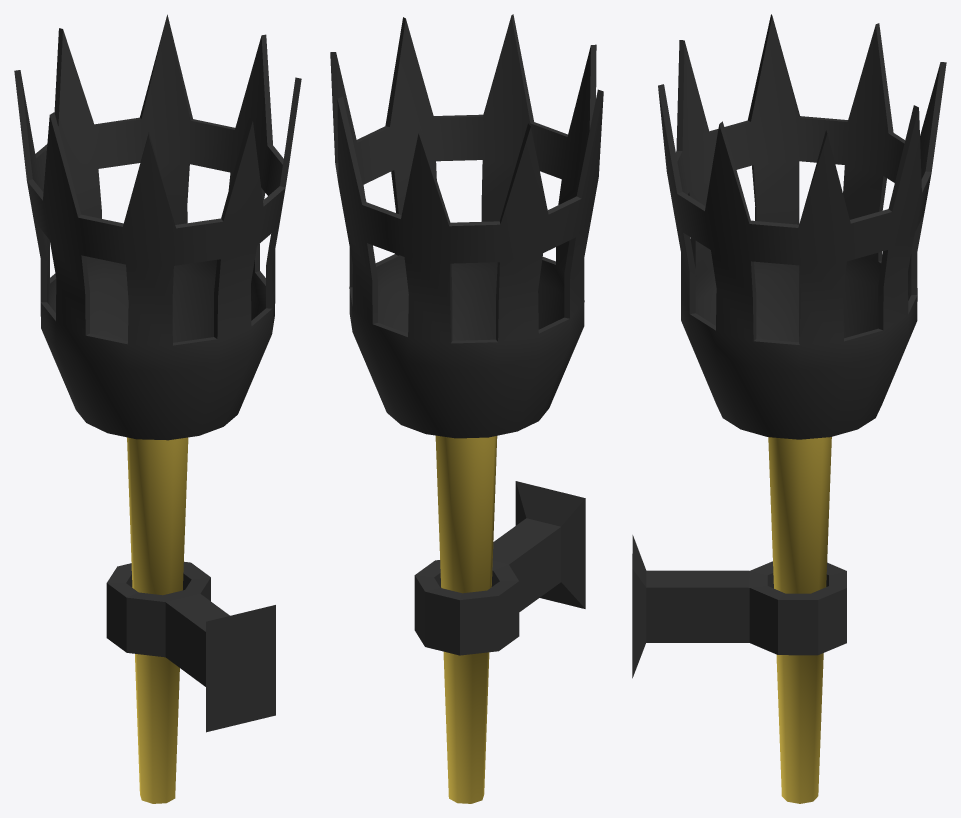
Rendered from Torch Wall 1.fbx.
3 renders of one model, left to right at view 1: azimuth 30°, elevation 25°; view 2: azimuth 150°, elevation 25°; view 3: azimuth 270°, elevation 25°, orthographic.
Visible parts, largest first — view 1: Cylinder.002; view 2: Cylinder.002; view 3: Cylinder.002.
Boxes of the visible parts, x1,y1,x2,y2 form: Cylinder.002: (14,14,301,803); Cylinder.002: (330,14,603,803); Cylinder.002: (632,14,946,803).
Bounding box in the file's own units: 42.4 × 120 × 47.15.
